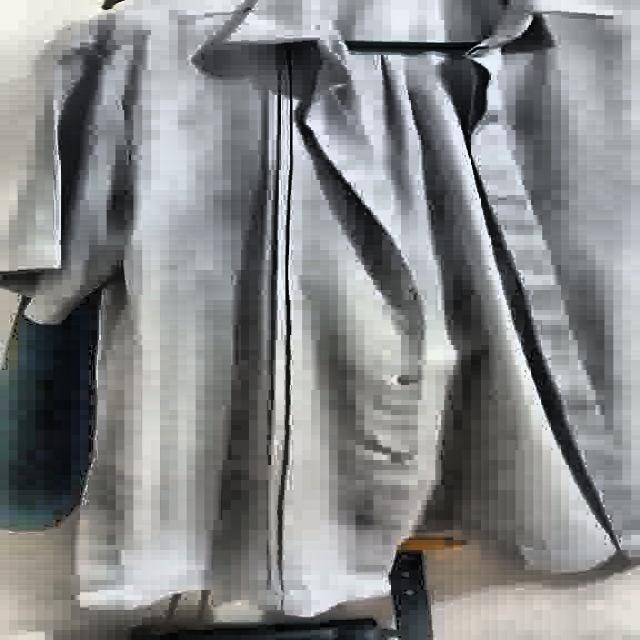clothes: (11, 0, 631, 620)
